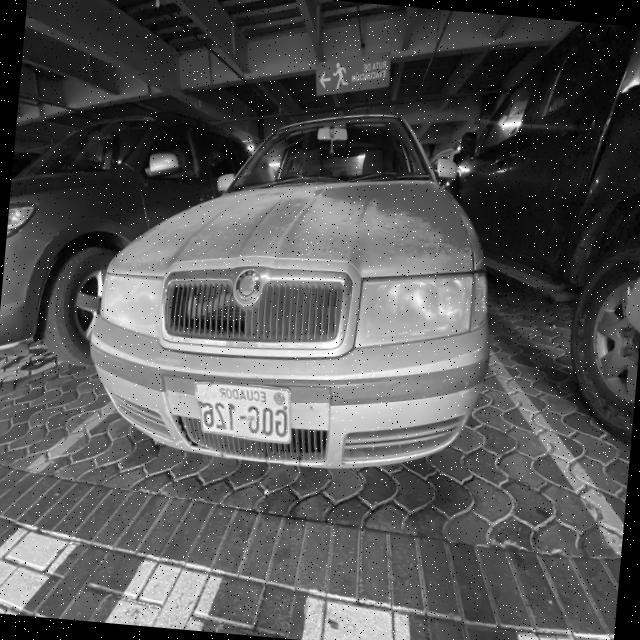Placa: (194, 382, 290, 443)
